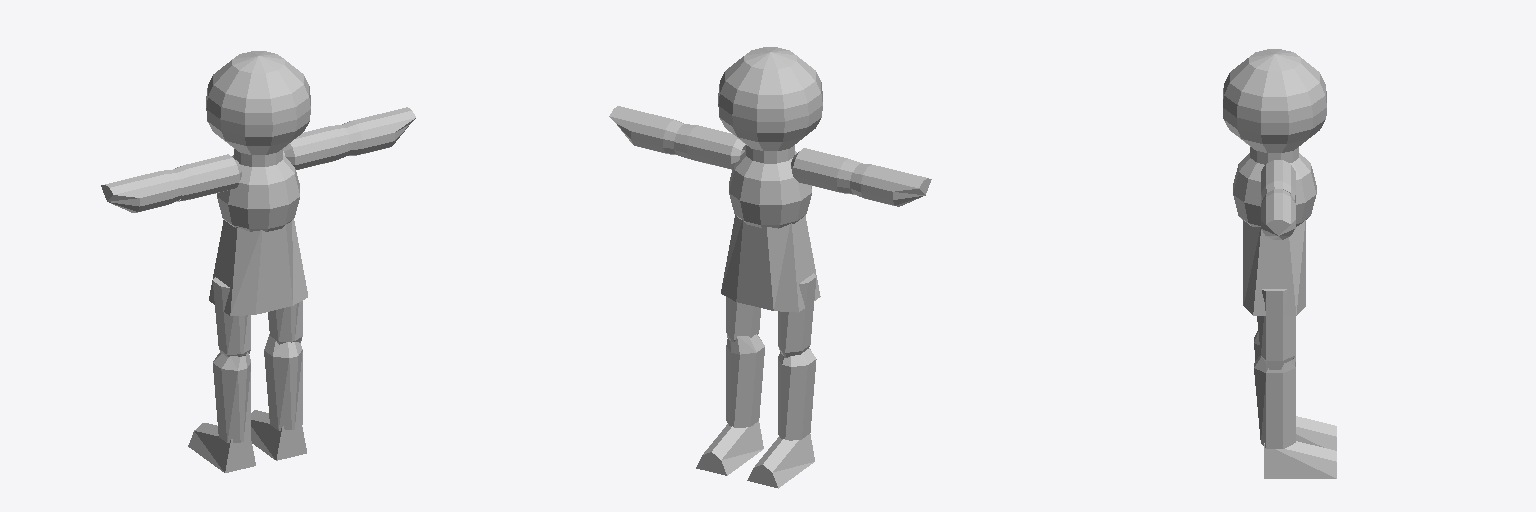
Rendered from male.obj.
3 views of the same model, side by side, from view 1: azimuth 30°, elevation 25°; view 2: azimuth 150°, elevation 25°; view 3: azimuth 270°, elevation 25° (orthographic).
Parts seen in each view (by area): view 1: Face; view 2: Face; view 3: Face.
Part boxes in pixels (x1,y1,x2,y2): Face: (101, 51, 415, 472); Face: (609, 47, 931, 488); Face: (1223, 49, 1336, 478).
Bounding box in the file's own units: 3.17 × 4 × 1.03.